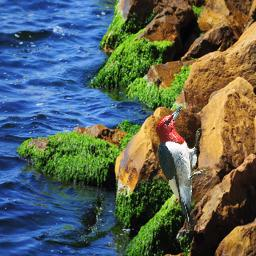Woodpecker: (155, 106, 207, 230)
